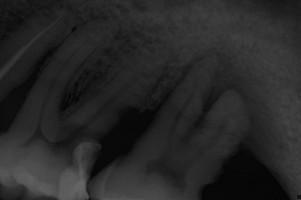Dental Caries: (203, 51, 277, 169), (177, 52, 213, 85)
Endo-Periodontal Lesion: (58, 65, 110, 113)
